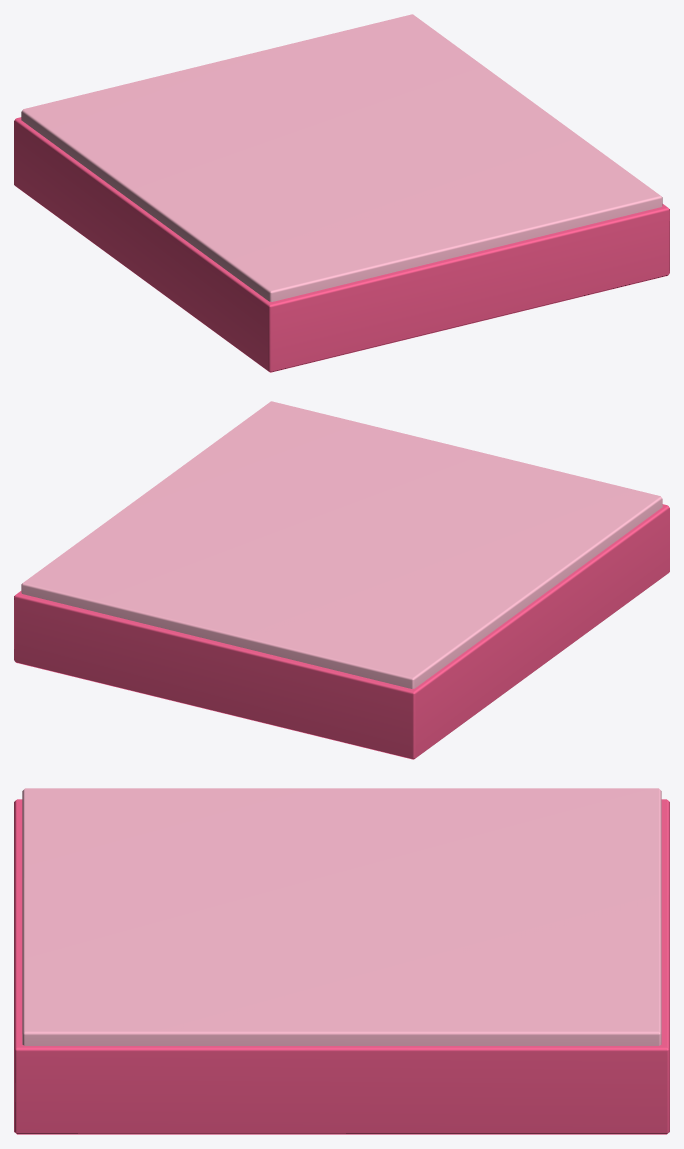
Rendered from Store_17_Base_1.glb.
The picture shows the model from 3 angles, top to bottom: view 1: azimuth 30°, elevation 25°; view 2: azimuth 150°, elevation 25°; view 3: azimuth 270°, elevation 25°; orthographic projection. The views are drawn at different scales.
Parts seen in each view (by area): view 1: Store_17_Base_1; view 2: Store_17_Base_1; view 3: Store_17_Base_1.
Boxes of the visible parts, x1,y1,x2,y2 form: Store_17_Base_1: [14, 14, 669, 372]; Store_17_Base_1: [14, 401, 669, 759]; Store_17_Base_1: [14, 788, 669, 1134].
Size of the model in its own units: 8.63 by 1.62 by 9.55.
Materials: 1 (1 with a texture image).
